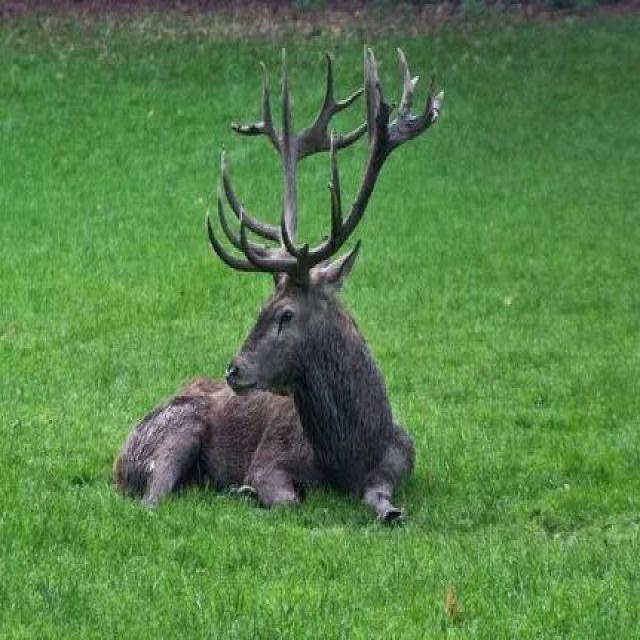deer: (160, 131, 478, 526)
